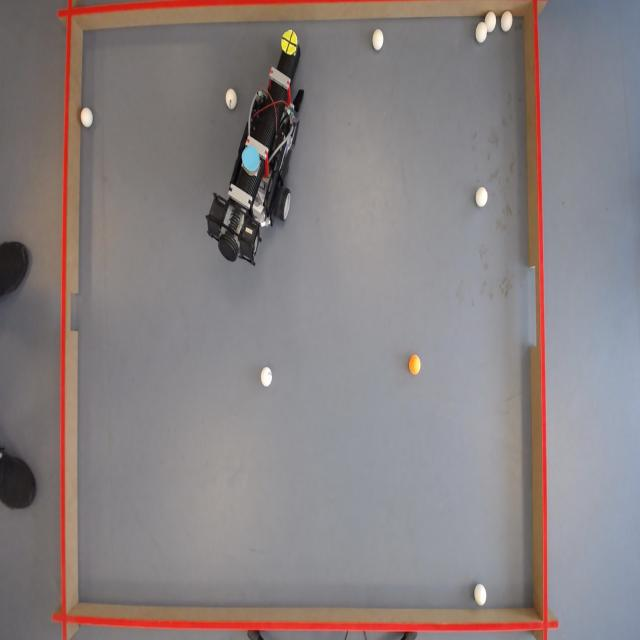orange: (410, 354, 423, 374)
robot: (203, 27, 306, 272)
robot-front: (280, 29, 298, 56)
robot-rear: (242, 141, 260, 173)
white: (475, 584, 489, 608), (373, 29, 385, 52), (475, 21, 487, 44), (80, 107, 93, 127), (262, 365, 274, 386), (224, 90, 237, 109), (477, 188, 489, 208), (500, 11, 512, 31), (486, 12, 496, 30)
